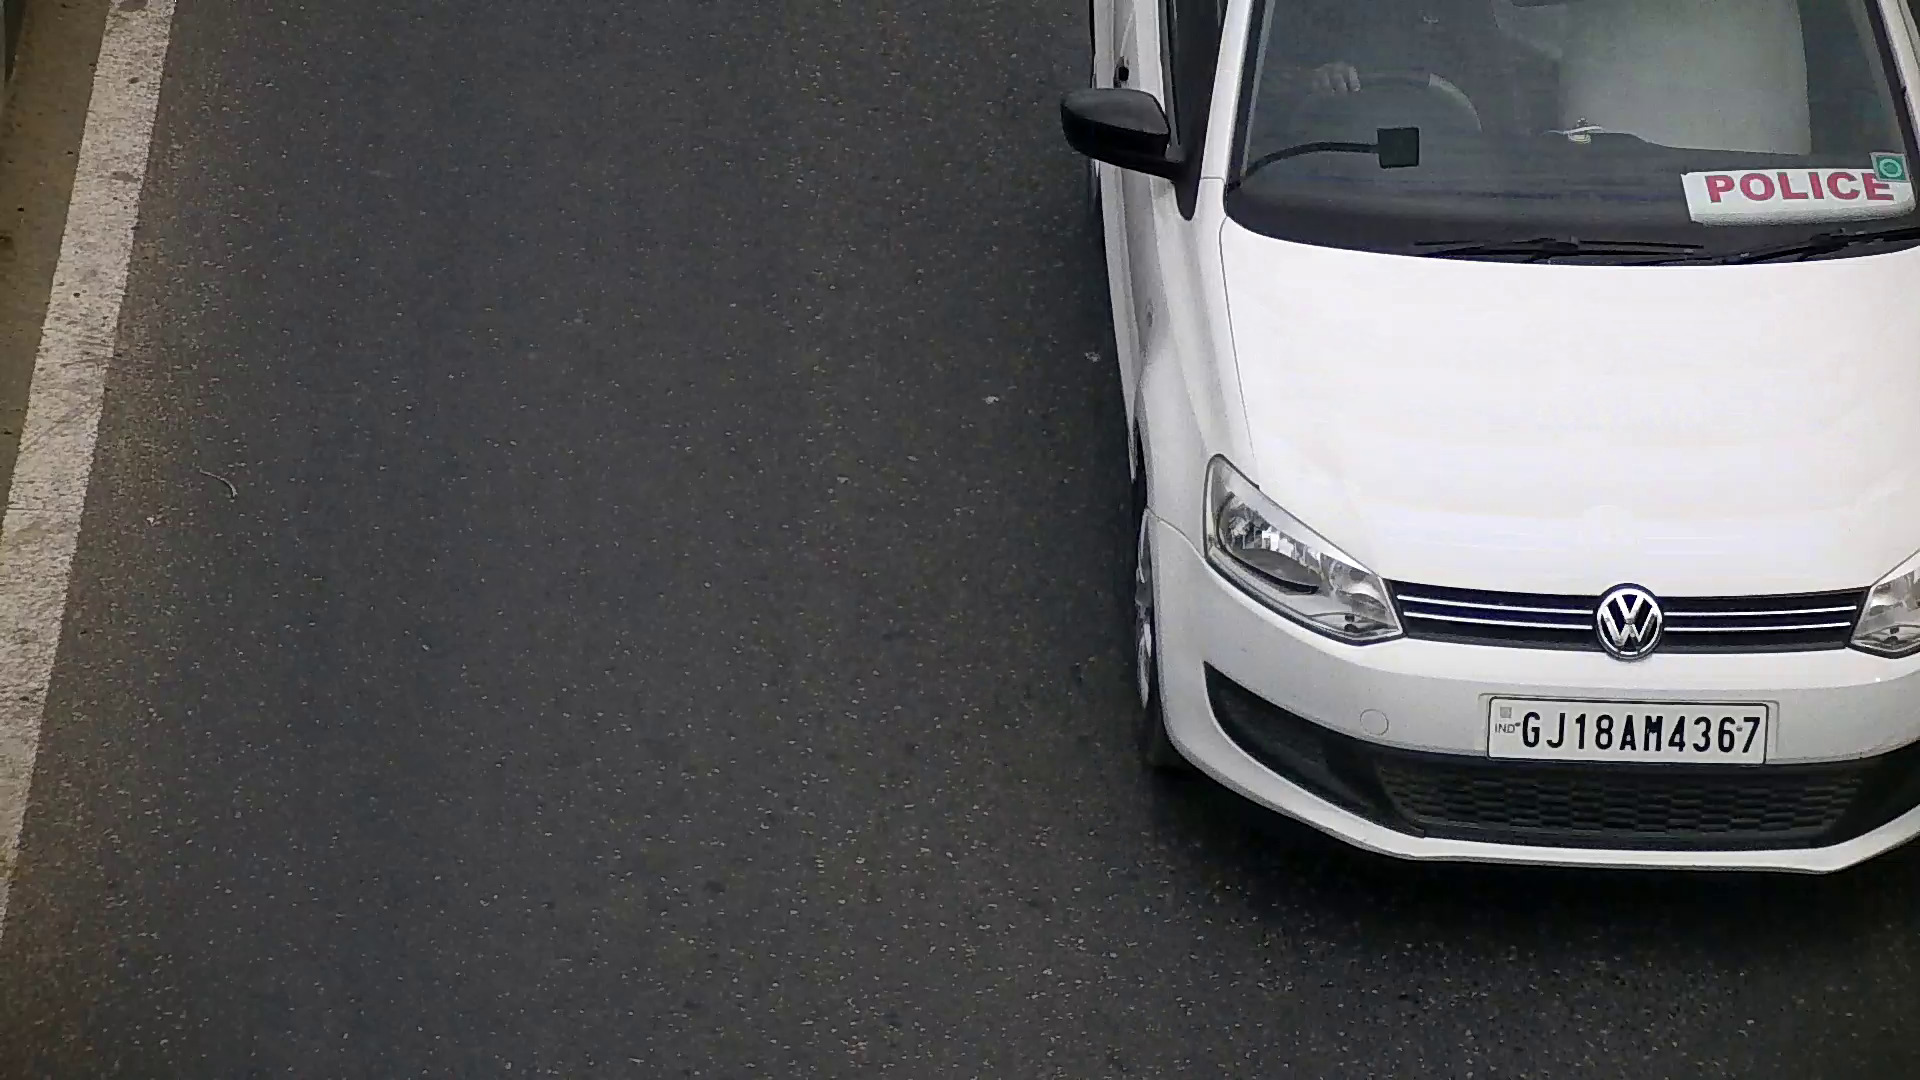numberplate: (1481, 691, 1776, 767)
